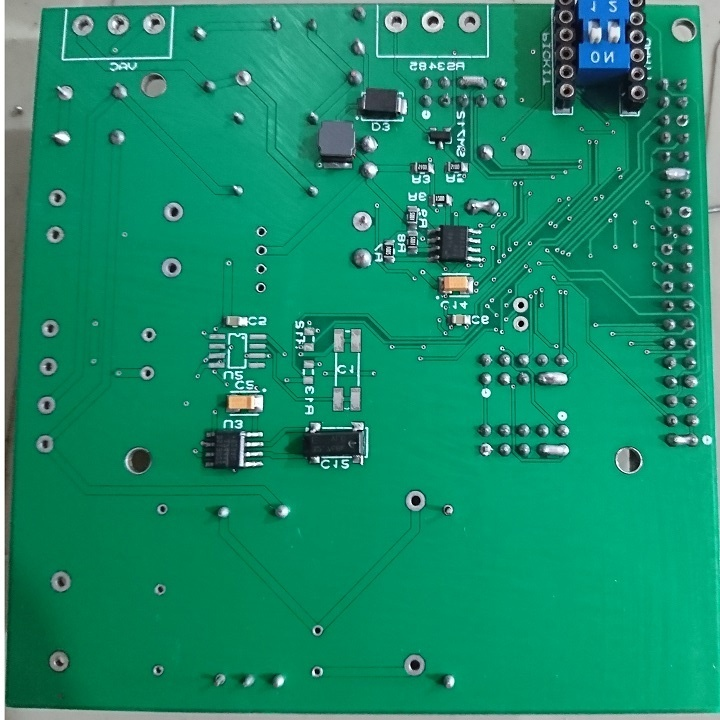F: (400, 486, 429, 518), (402, 652, 430, 682), (380, 8, 410, 33), (456, 9, 483, 36), (348, 209, 376, 235), (48, 569, 73, 598), (140, 9, 167, 35), (70, 12, 95, 40), (417, 10, 446, 34), (104, 12, 131, 36), (156, 256, 184, 279), (48, 650, 73, 675), (230, 67, 256, 91), (161, 201, 186, 224), (47, 185, 68, 212), (38, 355, 61, 378), (33, 432, 56, 455), (36, 396, 59, 418), (41, 318, 63, 340), (513, 141, 535, 163), (47, 225, 68, 246), (509, 296, 532, 315), (55, 83, 77, 102), (210, 671, 233, 689), (510, 315, 530, 335), (676, 202, 696, 220), (478, 440, 494, 462), (139, 326, 158, 344), (150, 661, 166, 680), (660, 241, 676, 260), (139, 364, 155, 383), (659, 278, 675, 296), (155, 500, 170, 519), (152, 582, 169, 598), (441, 503, 458, 519), (675, 112, 690, 130), (308, 623, 324, 638), (310, 666, 324, 681), (253, 225, 268, 238), (256, 245, 268, 260), (254, 263, 267, 276), (254, 283, 268, 295)
P: (535, 440, 577, 461), (663, 430, 701, 452), (659, 164, 696, 184), (464, 195, 501, 215), (536, 369, 572, 388), (455, 72, 489, 92)
